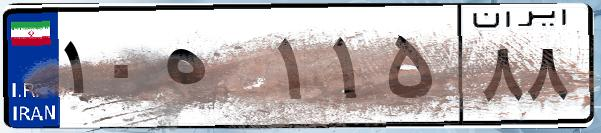0: (110, 28, 158, 98)
1: (270, 28, 330, 110), (330, 28, 385, 110), (57, 26, 110, 100)
5: (385, 28, 445, 110)
8: (475, 38, 525, 113), (525, 38, 570, 115)
ه: (158, 20, 270, 120)
